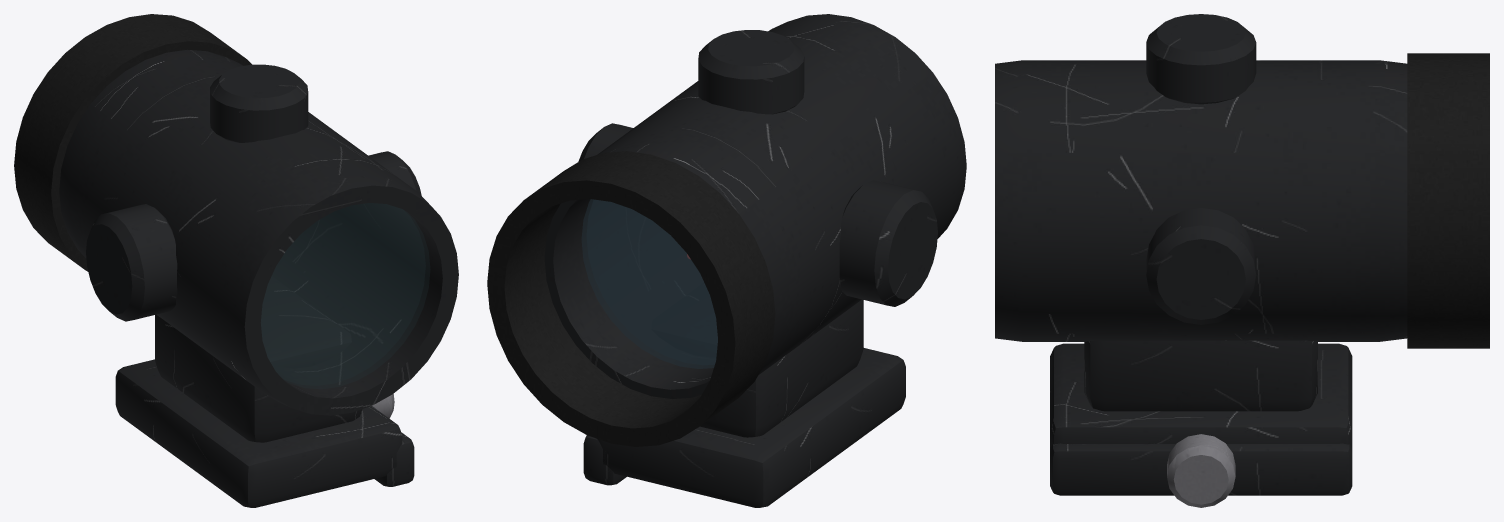
The model's file is Optic_RedDot.glb.
The picture shows the model from 3 angles, left to right: view 1: azimuth 30°, elevation 25°; view 2: azimuth 150°, elevation 25°; view 3: azimuth 270°, elevation 25°; orthographic projection. The views are drawn at different scales.
Parts seen in each view (by area): view 1: Optic_RedDot_Body; view 2: Optic_RedDot_Body; view 3: Optic_RedDot_Body.
Boxes of the visible parts, <box> form: Optic_RedDot_Body: <box>14,14,458,507</box>; Optic_RedDot_Body: <box>487,14,966,507</box>; Optic_RedDot_Body: <box>995,14,1489,507</box>.
Bounding box in the file's own units: 0.055 × 0.067 × 0.072.
Materials: 6 (3 with a texture image).
